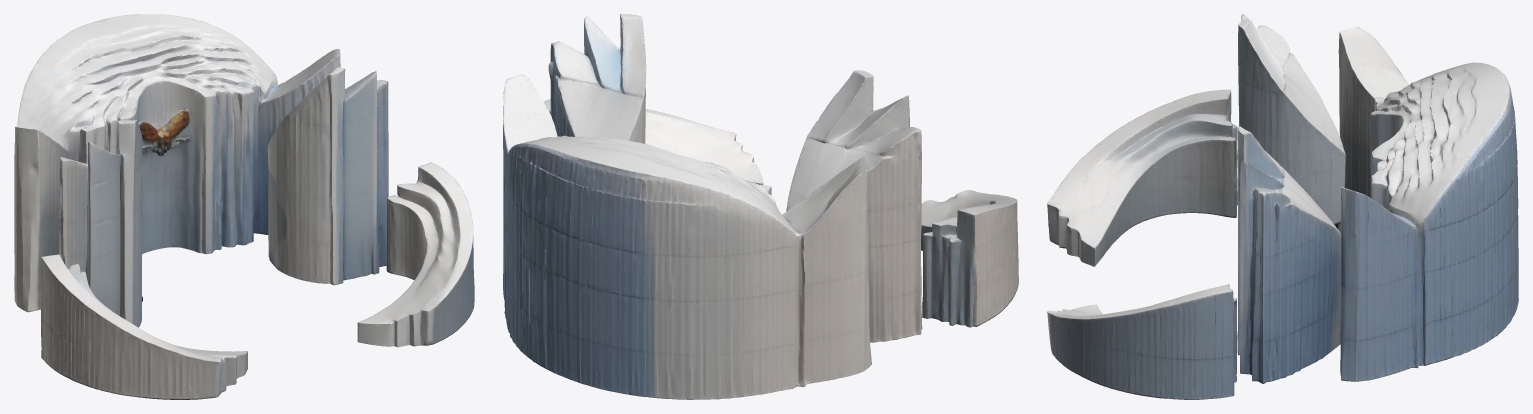
The model's file is PerjuanganRakyat.glb.
The picture shows the model from 3 angles, left to right: view 1: azimuth 30°, elevation 25°; view 2: azimuth 150°, elevation 25°; view 3: azimuth 270°, elevation 25°; orthographic projection. The views are drawn at different scales.
Visible parts, largest first — view 1: mesh; view 2: mesh; view 3: mesh.
Part boxes in pixels (x1,y1,x2,y2): mesh: (14,14,474,399); mesh: (503,14,1018,399); mesh: (1047,14,1518,399).
Size of the model in its own units: 1 by 0.5038 by 0.9649.
1 material, 1 textured.
